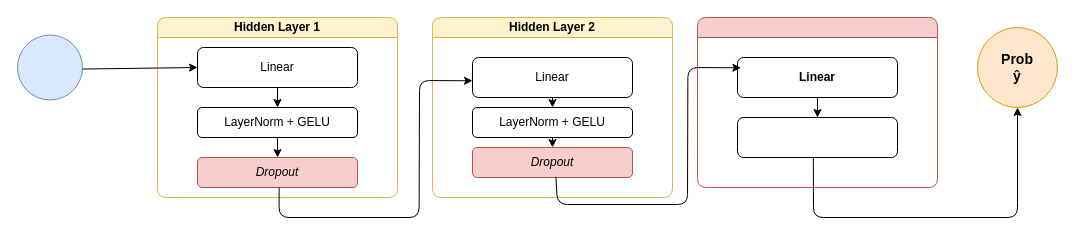
Some shapes in this 1075 by 243 pixel diagram are drawn without their labels. Here are the shapes that lost their labels. From the top down, the box of each, then its label:
(16, 34, 82, 100): Latent Input
(696, 16, 938, 188): Output Head
(736, 116, 898, 158): Sigmoid
